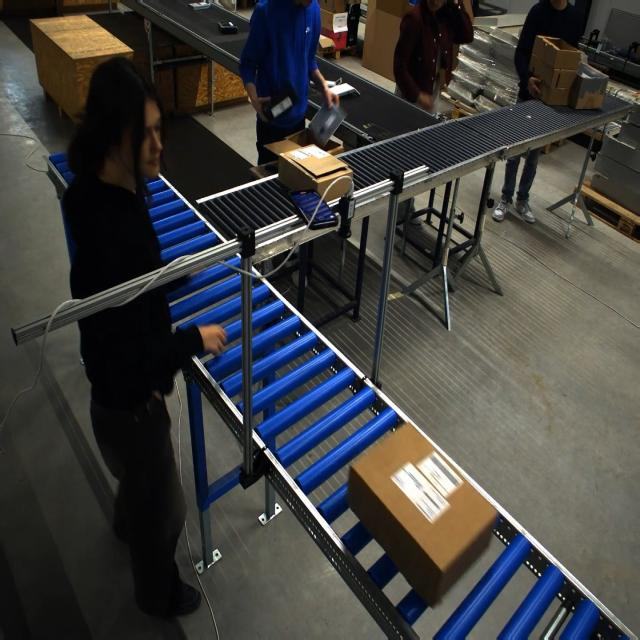box: (352, 430, 493, 606), (266, 132, 346, 196), (571, 61, 610, 110)
product: (309, 75, 337, 91), (217, 21, 238, 34), (188, 1, 212, 10)
